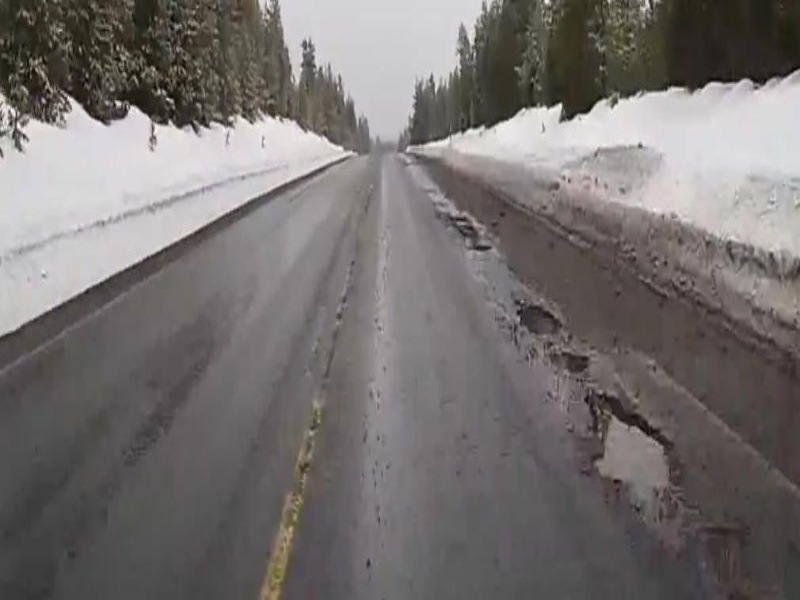pothole: (583, 393, 697, 556), (512, 301, 563, 340), (546, 350, 592, 378)
